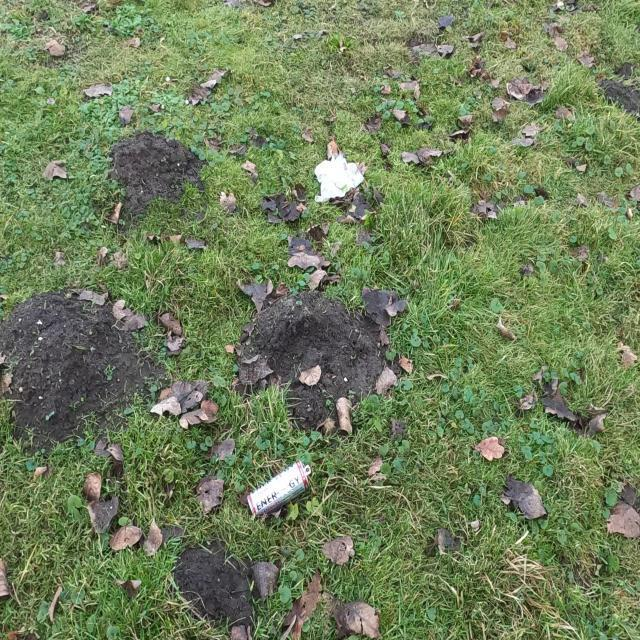Can-Metal: (245, 459, 312, 518)
Paper: (314, 152, 365, 204)
